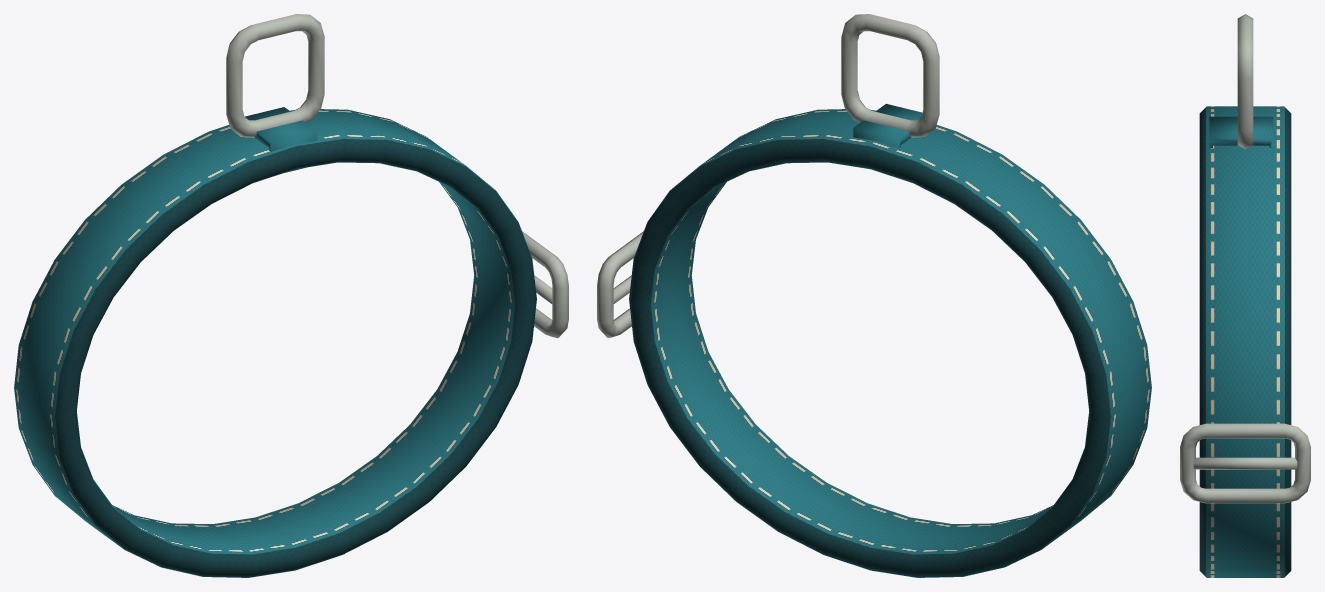
Rendered from KH_Collar_Corgi.fbx.
3 views of the same model, side by side, from view 1: azimuth 30°, elevation 25°; view 2: azimuth 150°, elevation 25°; view 3: azimuth 270°, elevation 25° (orthographic). The views are drawn at different scales.
Parts seen in each view (by area): view 1: KH_Collar_Corgi; view 2: KH_Collar_Corgi; view 3: KH_Collar_Corgi.
Part boxes in pixels (x1,y1,x2,y2): KH_Collar_Corgi: (14,14,568,577); KH_Collar_Corgi: (597,14,1151,577); KH_Collar_Corgi: (1180,14,1310,577).
Bounding box in the file's own units: 0.1969 × 0.2007 × 0.0456.
Materials: 1 (1 with a texture image).
